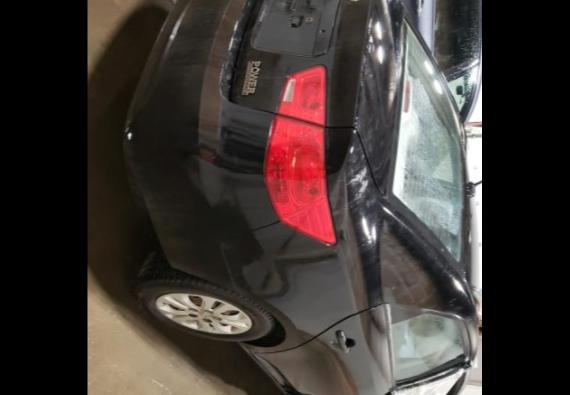Broken part: (379, 352, 474, 395), (254, 354, 296, 394)
Cracked: (398, 362, 466, 395)
Dent: (228, 246, 346, 304), (254, 338, 359, 395), (328, 170, 350, 228)
Missing part: (264, 0, 323, 26)
